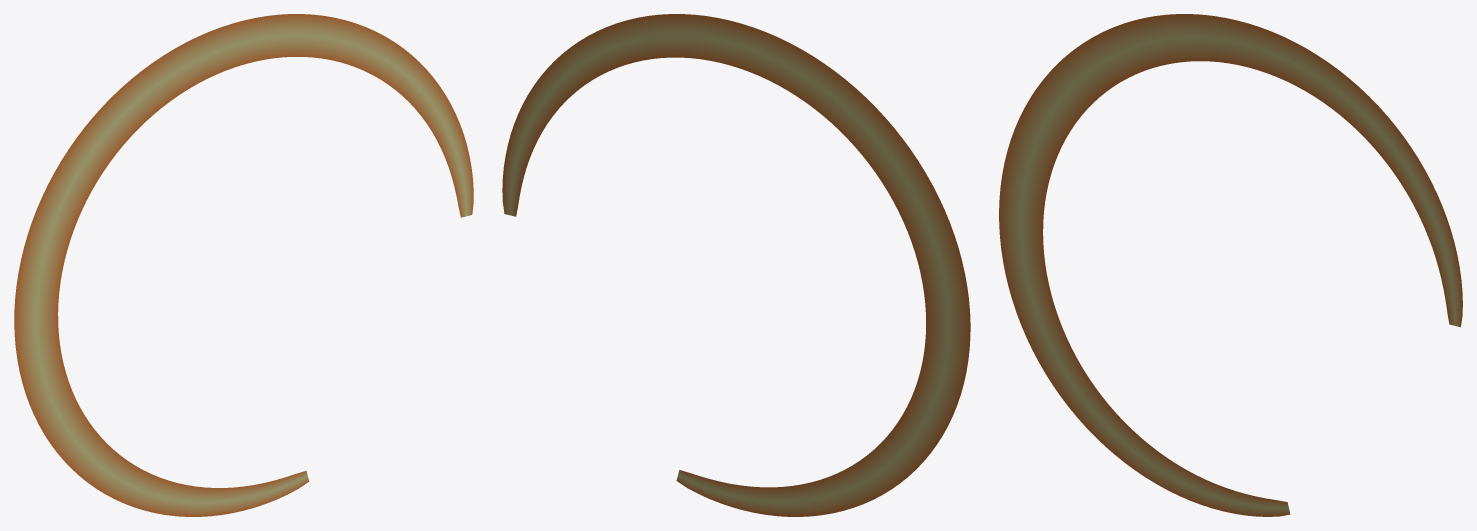
The model's file is 2054_SpinningSlash_SweepBladeHeavy.fbx.
3 renders of one model, left to right at view 1: azimuth 30°, elevation 25°; view 2: azimuth 150°, elevation 25°; view 3: azimuth 330°, elevation 25°, orthographic.
Visible parts, largest first — view 1: PART_Pyro_HeavyTaperedSweep; view 2: PART_Pyro_HeavyTaperedSweep; view 3: PART_Pyro_HeavyTaperedSweep.
Part boxes in pixels (x1,y1,x2,y2): PART_Pyro_HeavyTaperedSweep: (14, 14, 473, 516); PART_Pyro_HeavyTaperedSweep: (502, 14, 970, 516); PART_Pyro_HeavyTaperedSweep: (999, 14, 1462, 516).
Size of the model in its own units: 214 by 215 by 5.
